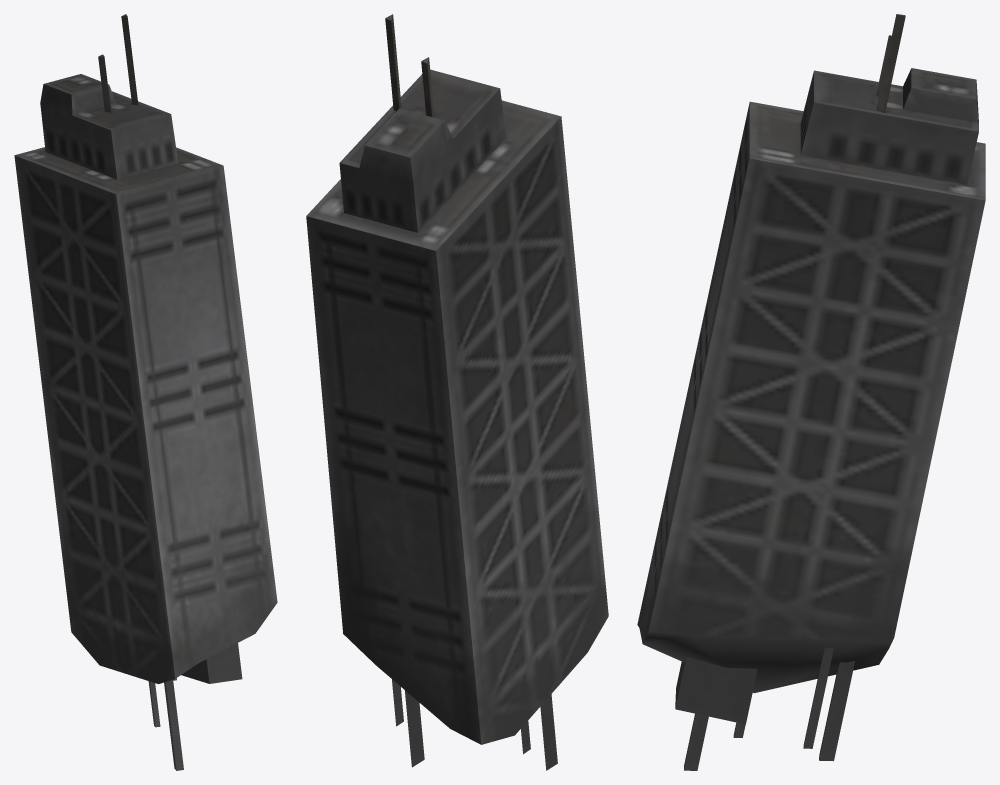
Rendered from skyBuildingAAA_pos_grp (12).fbx.
3 renders of one model, left to right at view 1: azimuth 30°, elevation 25°; view 2: azimuth 150°, elevation 25°; view 3: azimuth 270°, elevation 25°, orthographic. The views are drawn at different scales.
Visible parts, largest first — view 1: skyBuildingAAA_geo; view 2: skyBuildingAAA_geo; view 3: skyBuildingAAA_geo.
Boxes of the visible parts, <box> form: skyBuildingAAA_geo: <box>14,14,277,770</box>; skyBuildingAAA_geo: <box>306,14,608,770</box>; skyBuildingAAA_geo: <box>637,14,985,770</box>.
Size of the model in its own units: 2.04 by 11.29 by 4.57.
